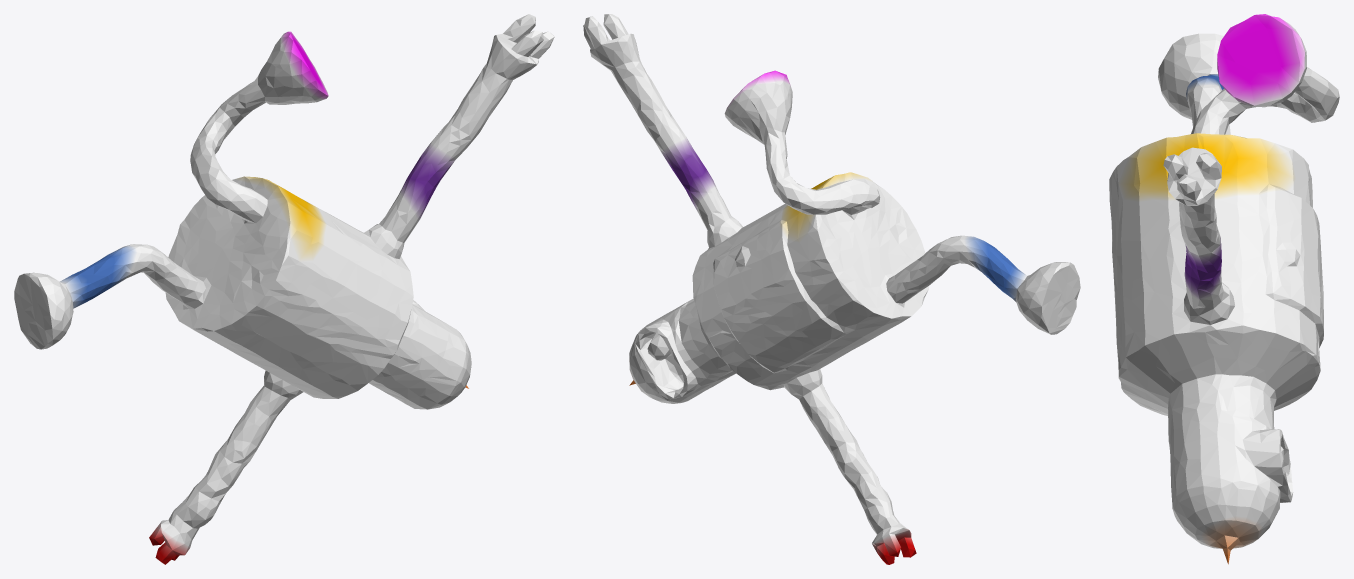
File: target_skirt.obj
3 views of the same model, side by side, from view 1: azimuth 30°, elevation 25°; view 2: azimuth 150°, elevation 25°; view 3: azimuth 270°, elevation 25° (orthographic). The views are drawn at different scales.
Bounding box in the file's own units: 1.6 × 1.47 × 0.5213.
1 material, 1 textured.
